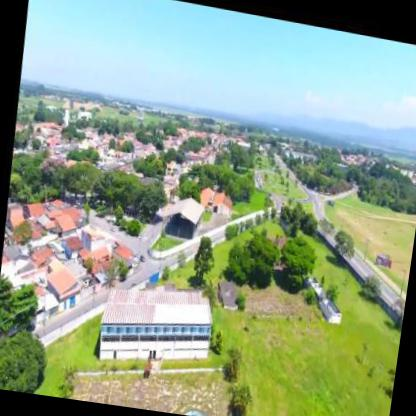agua: (177, 406, 208, 415)
